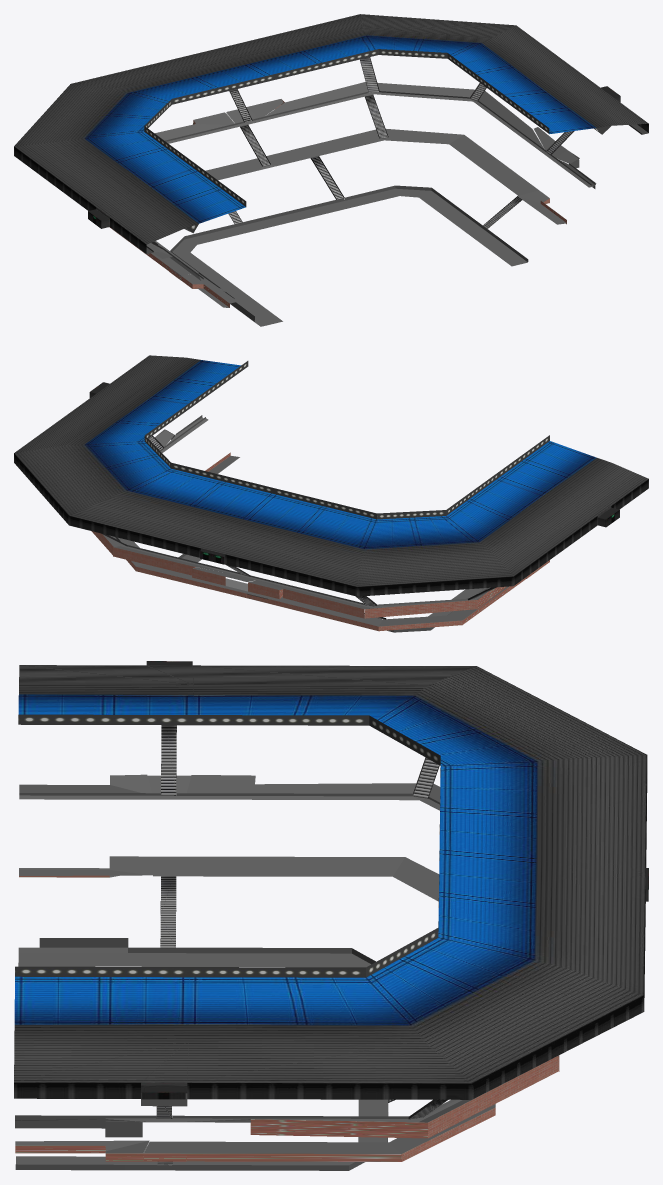
File: StadiumBase.fbx
3 renders of one model, top to bottom at view 1: azimuth 30°, elevation 25°; view 2: azimuth 150°, elevation 25°; view 3: azimuth 270°, elevation 25°, orthographic. The views are drawn at different scales.
Parts seen in each view (by area): view 1: StadiumTop, Stadium_Base, Stadium_Stairs; view 2: StadiumTop, Stadium_Base; view 3: StadiumTop, Stadium_Base.
Part boxes in pixels (<box>): StadiumTop: <box>14,14,648,253</box>; Stadium_Base: <box>109,82,596,326</box>; Stadium_Stairs: <box>240,125,279,170</box>; StadiumTop: <box>14,355,648,606</box>; Stadium_Base: <box>91,415,549,632</box>; StadiumTop: <box>14,661,648,1119</box>; Stadium_Base: <box>15,774,559,1170</box>.
Bounding box in the file's own units: 14691 × 3505 × 9133.
